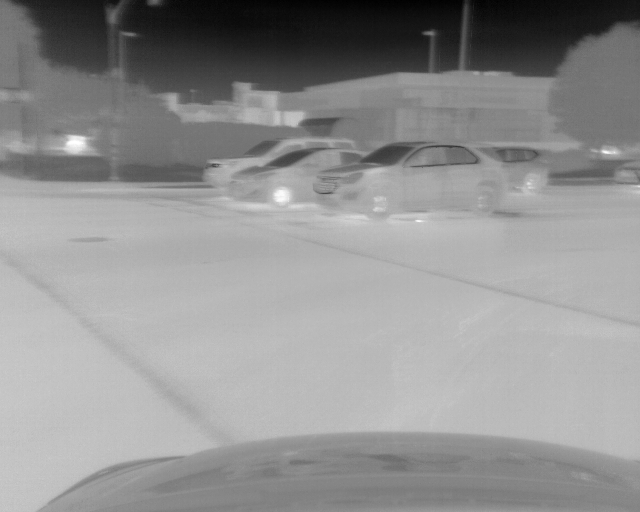car: (313, 140, 506, 222), (231, 147, 363, 211), (208, 138, 357, 194), (500, 144, 549, 194), (612, 156, 640, 189)
